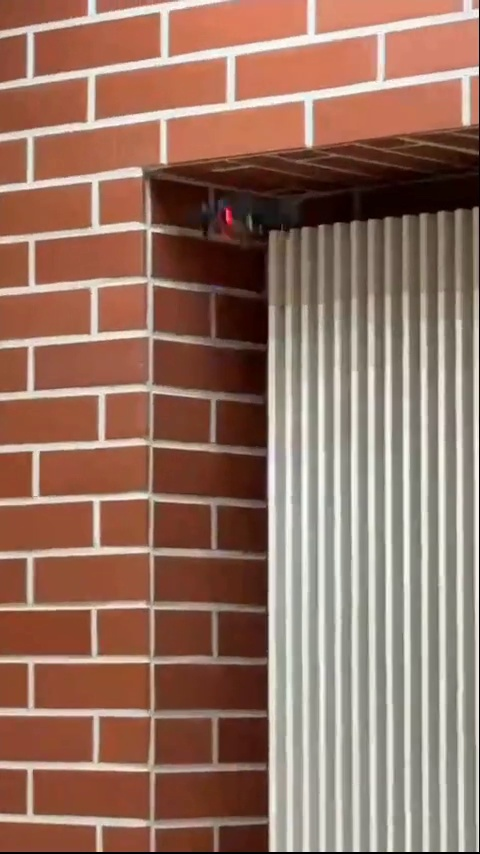drone: (193, 186, 310, 243)
